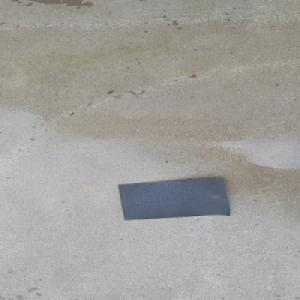PaintChip: (117, 177, 230, 220)
